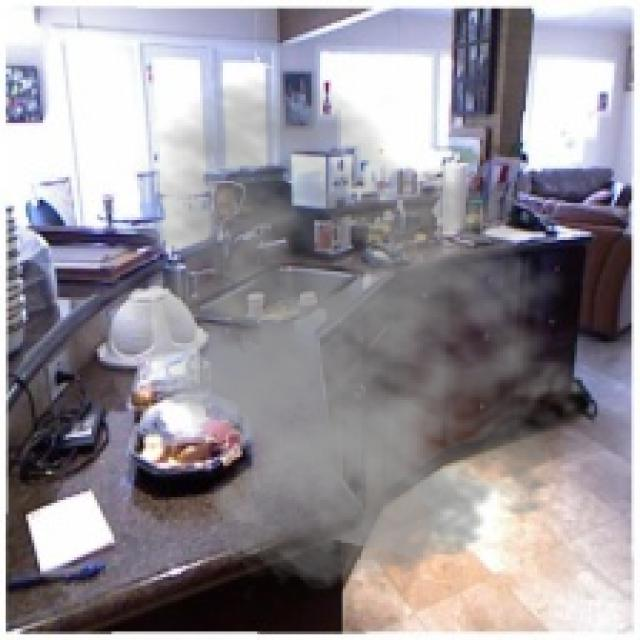smoke: (80, 77, 606, 597)
